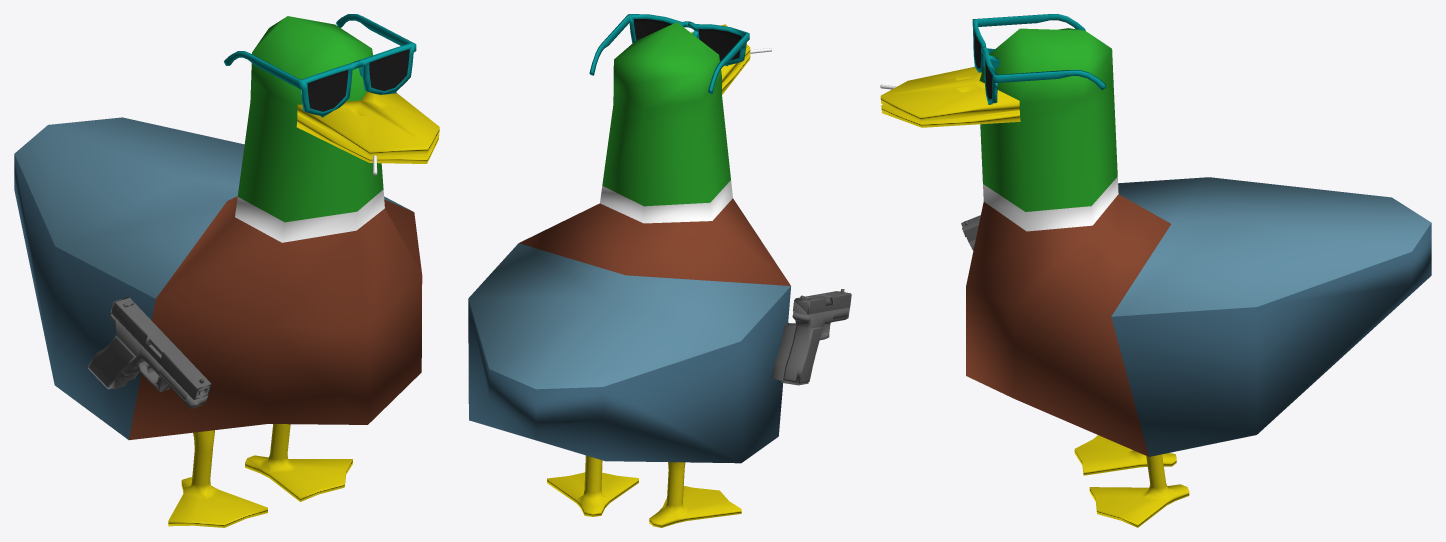
The model's file is scene_CLoNC7nwe7.glb.
The picture shows the model from 3 angles, left to right: view 1: azimuth 30°, elevation 25°; view 2: azimuth 150°, elevation 25°; view 3: azimuth 270°, elevation 25°; orthographic projection. The views are drawn at different scales.
Visible parts, largest first — view 1: Body_Mesh, old_Gun_Mesh.009, Upperbeak_Mesh.004, Sunnies_Mesh.006, Left_Footsies_Mesh.007, Right_Footsies_Mesh.008, Lowerbeak_Mesh.003; view 2: Body_Mesh, old_Gun_Mesh.009, Sunnies_Mesh.006, Left_Footsies_Mesh.007, Right_Footsies_Mesh.008; view 3: Body_Mesh, Upperbeak_Mesh.004, Right_Footsies_Mesh.008, Sunnies_Mesh.006, Left_Footsies_Mesh.007, Lowerbeak_Mesh.003.
Part boxes in pixels (x1,y1,x2,y2): Body_Mesh: [14, 16, 422, 440]; old_Gun_Mesh.009: [87, 297, 211, 408]; Upperbeak_Mesh.004: [297, 91, 439, 156]; Sunnies_Mesh.006: [224, 14, 416, 117]; Left_Footsies_Mesh.007: [168, 430, 267, 527]; Right_Footsies_Mesh.008: [245, 424, 352, 501]; Lowerbeak_Mesh.003: [296, 115, 439, 163]; Body_Mesh: [468, 22, 791, 463]; old_Gun_Mesh.009: [771, 289, 851, 385]; Sunnies_Mesh.006: [589, 14, 749, 93]; Left_Footsies_Mesh.007: [649, 462, 741, 527]; Right_Footsies_Mesh.008: [547, 455, 638, 516]; Body_Mesh: [966, 28, 1431, 456]; Upperbeak_Mesh.004: [880, 67, 1019, 121]; Right_Footsies_Mesh.008: [1089, 454, 1189, 527]; Sunnies_Mesh.006: [972, 14, 1106, 104]; Left_Footsies_Mesh.007: [1074, 435, 1176, 475]; Lowerbeak_Mesh.003: [881, 104, 1020, 127].
Size of the model in its own units: 0.6663 by 0.9825 by 1.06.
